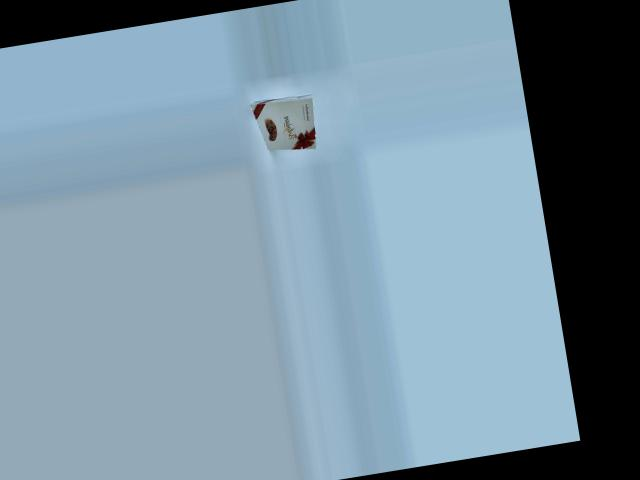chocolate: (245, 81, 319, 159)
